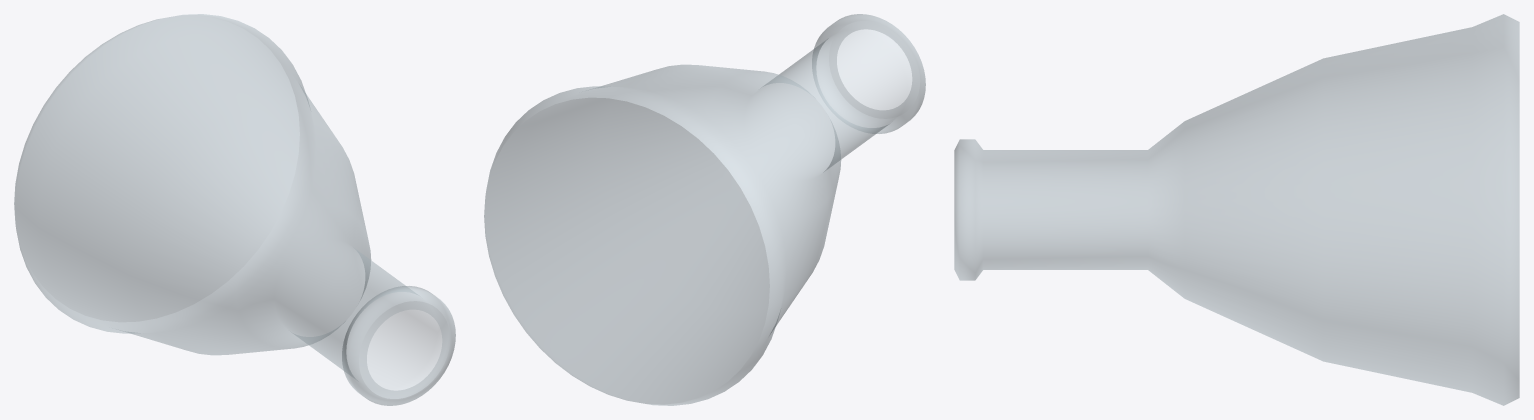
File: modelo.glb
3 renders of one model, left to right at view 1: azimuth 30°, elevation 25°; view 2: azimuth 150°, elevation 25°; view 3: azimuth 270°, elevation 25°, orthographic. The views are drawn at different scales.
Parts seen in each view (by area): view 1: Erlenmeyer; view 2: Erlenmeyer; view 3: Erlenmeyer.
Boxes of the visible parts, left/top/right/bottom form: Erlenmeyer: left=14, top=14, right=455, bottom=405; Erlenmeyer: left=484, top=14, right=925, bottom=405; Erlenmeyer: left=954, top=14, right=1519, bottom=405.
Size of the model in its own units: 0.0972 by 0.0972 by 0.14.
